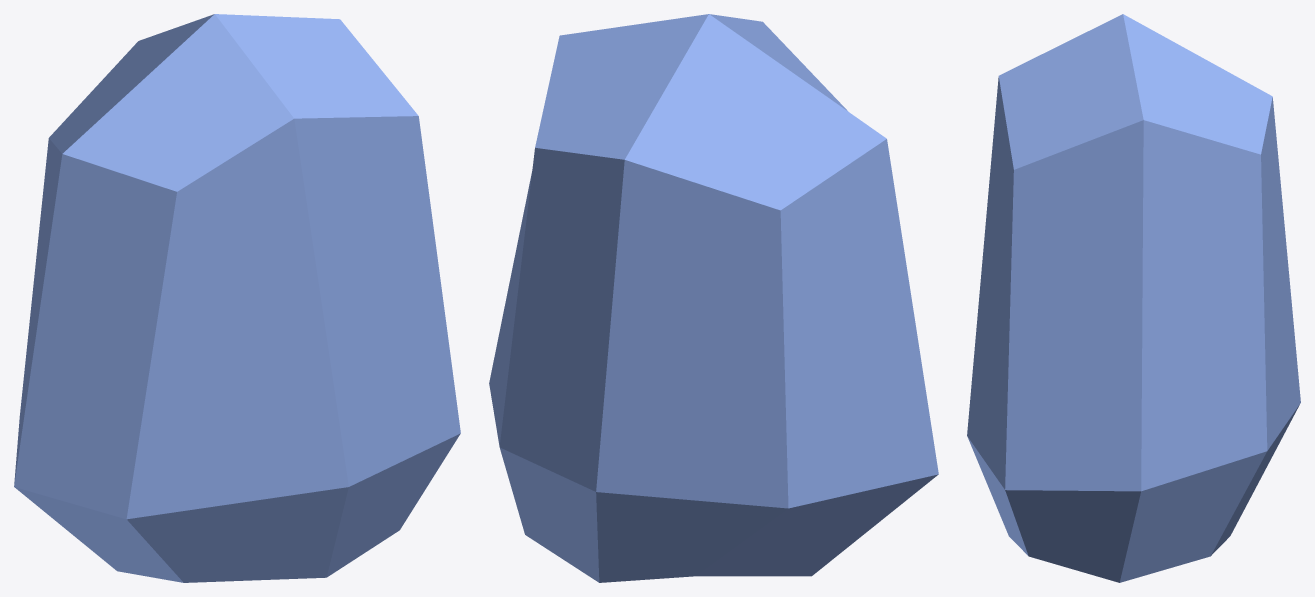
The model's file is Stone_3.fbx.
3 views of the same model, side by side, from view 1: azimuth 30°, elevation 25°; view 2: azimuth 150°, elevation 25°; view 3: azimuth 270°, elevation 25° (orthographic). The views are drawn at different scales.
Visible parts, largest first — view 1: Cube.024; view 2: Cube.024; view 3: Cube.024.
Part boxes in pixels (<box>): Cube.024: <box>14,14,460,582</box>; Cube.024: <box>489,14,938,582</box>; Cube.024: <box>967,14,1300,582</box>.
Bounding box in the file's own units: 38.74 × 47.68 × 28.37.
